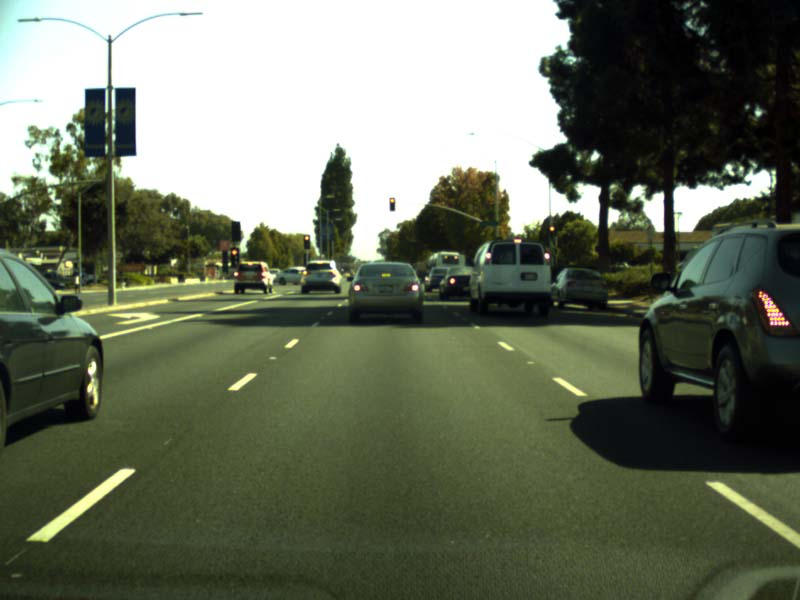Red: (231, 249, 238, 266), (304, 235, 309, 248), (389, 198, 394, 210), (496, 237, 500, 250), (550, 227, 553, 237)
